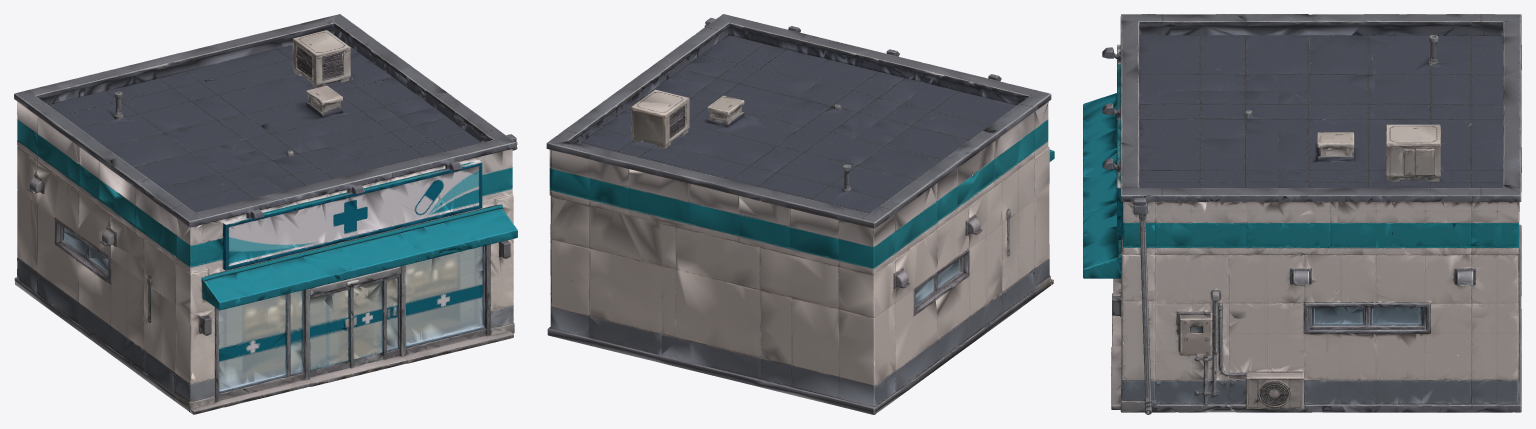
File: building_pharmacy_model.glb
3 views of the same model, side by side, from view 1: azimuth 30°, elevation 25°; view 2: azimuth 150°, elevation 25°; view 3: azimuth 270°, elevation 25° (orthographic). The views are drawn at different scales.
Visible parts, largest first — view 1: Mesh_0.002; view 2: Mesh_0.002; view 3: Mesh_0.002.
Part boxes in pixels (left/top/right/bottom): Mesh_0.002: left=14, top=14, right=517, bottom=414; Mesh_0.002: left=546, top=14, right=1054, bottom=414; Mesh_0.002: left=1083, top=14, right=1521, bottom=414.
Size of the model in its own units: 7.6 by 4.5 by 7.37.
1 material, 1 textured.
